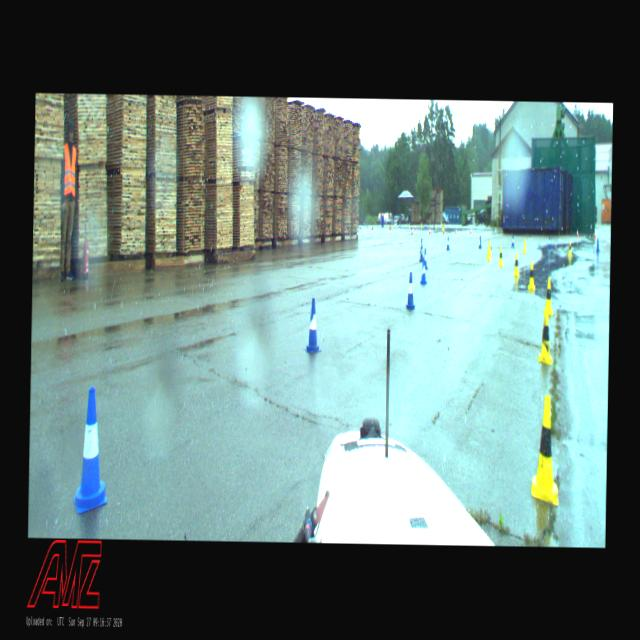blue_cone: (74, 387, 108, 514), (304, 298, 322, 353), (406, 271, 414, 309), (420, 257, 427, 284), (423, 248, 428, 269), (419, 246, 423, 261), (596, 238, 600, 252), (478, 235, 482, 248), (510, 235, 514, 248), (446, 237, 450, 250), (548, 237, 550, 249)
orange_cone: (469, 226, 472, 234), (576, 228, 578, 237)
yellow_cone: (532, 396, 560, 506), (538, 308, 552, 364), (543, 278, 553, 314), (528, 262, 535, 288), (513, 252, 519, 275), (498, 246, 503, 266), (486, 243, 490, 260), (522, 238, 526, 254), (568, 241, 572, 255)
